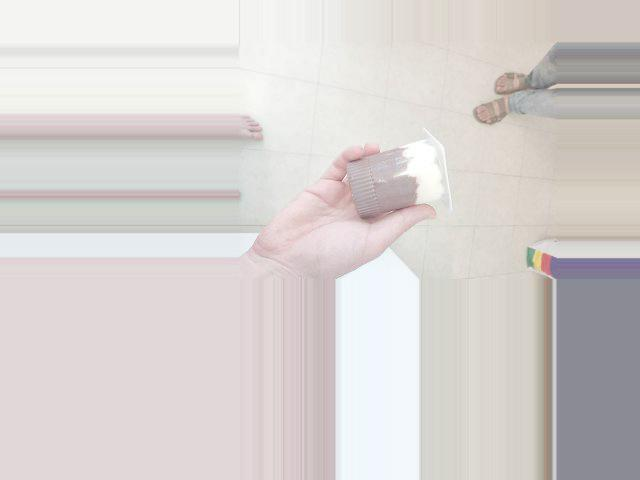milky: (351, 143, 465, 213)
